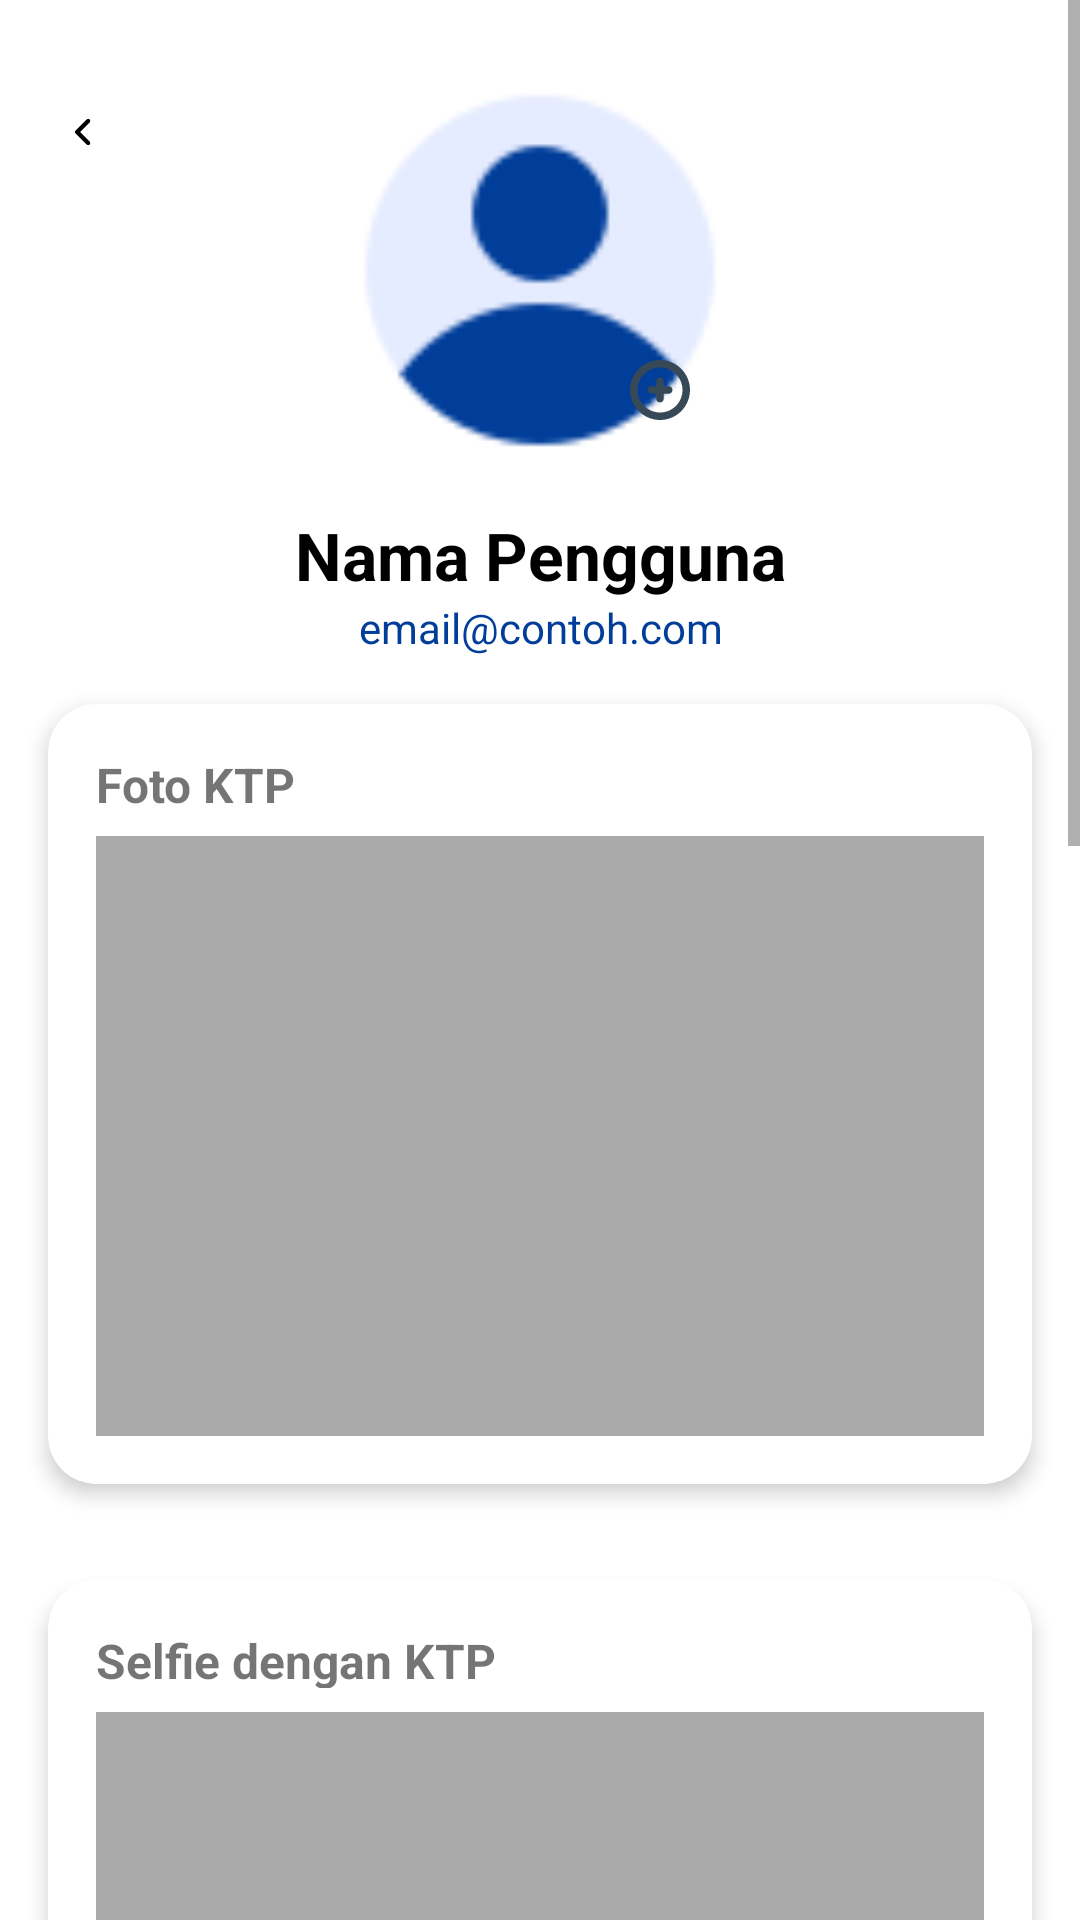

Locate icon controls on the screen. Image size 1080*1920, boxes as (x1,y1,x2,y2).
back: (75,119,91,145)
